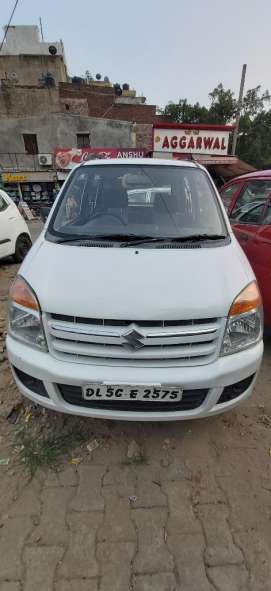license_plate: (83, 386, 187, 407)
